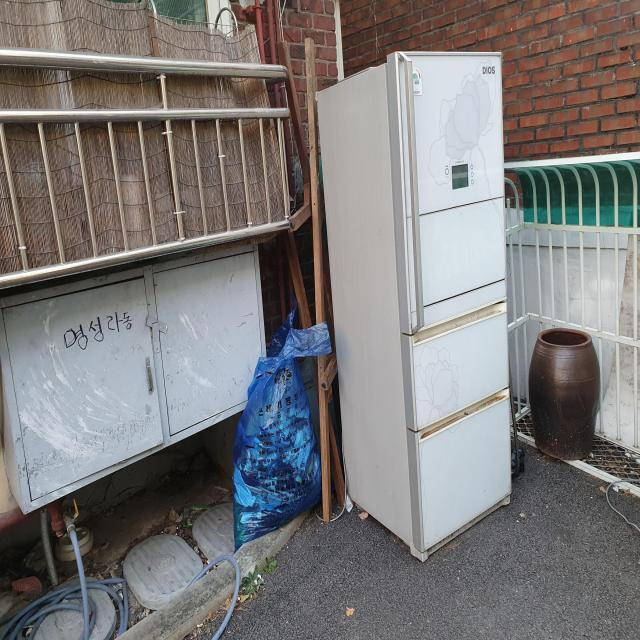refrigerator: (314, 44, 516, 568)
